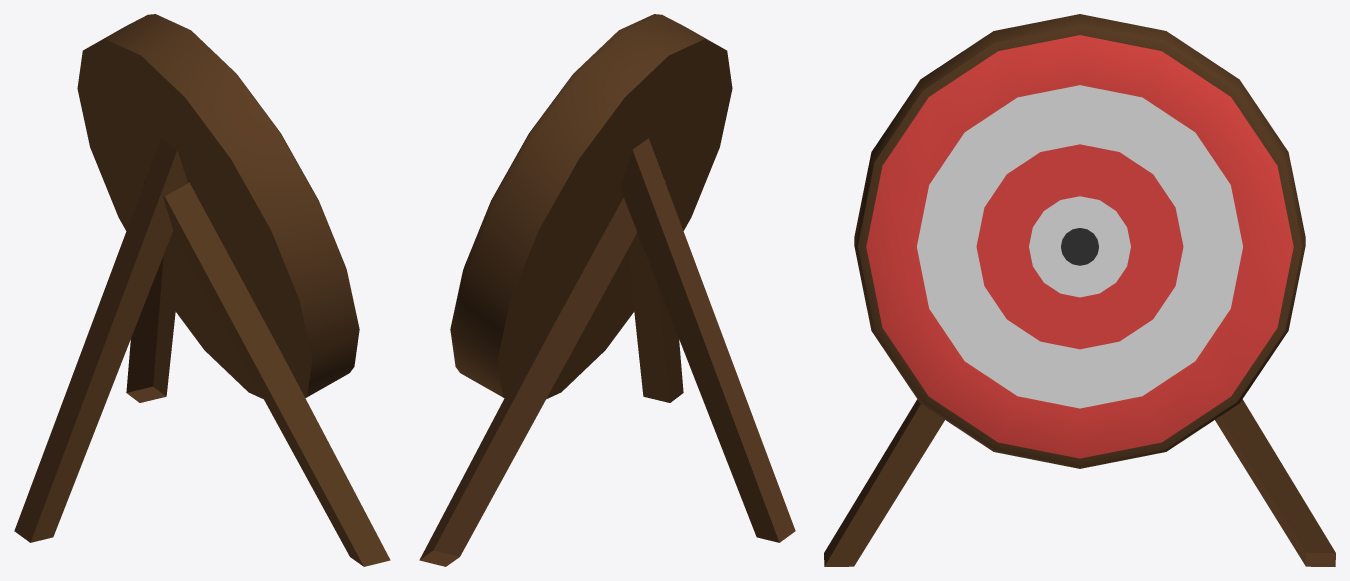
File: Target.fbx
3 views of the same model, side by side, from view 1: azimuth 30°, elevation 25°; view 2: azimuth 150°, elevation 25°; view 3: azimuth 270°, elevation 25° (orthographic). The views are drawn at different scales.
Visible parts, largest first — view 1: Cylinder; view 2: Cylinder; view 3: Cylinder.
Boxes of the visible parts, x1,y1,x2,y2 form: Cylinder: [14, 14, 390, 566]; Cylinder: [419, 14, 795, 566]; Cylinder: [824, 14, 1335, 566].
Bounding box in the file's own units: 0.7453 × 1.21 × 1.12.
